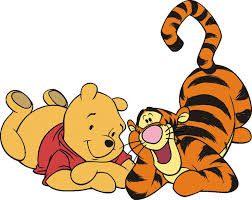Winnie: (54, 82, 127, 184)
